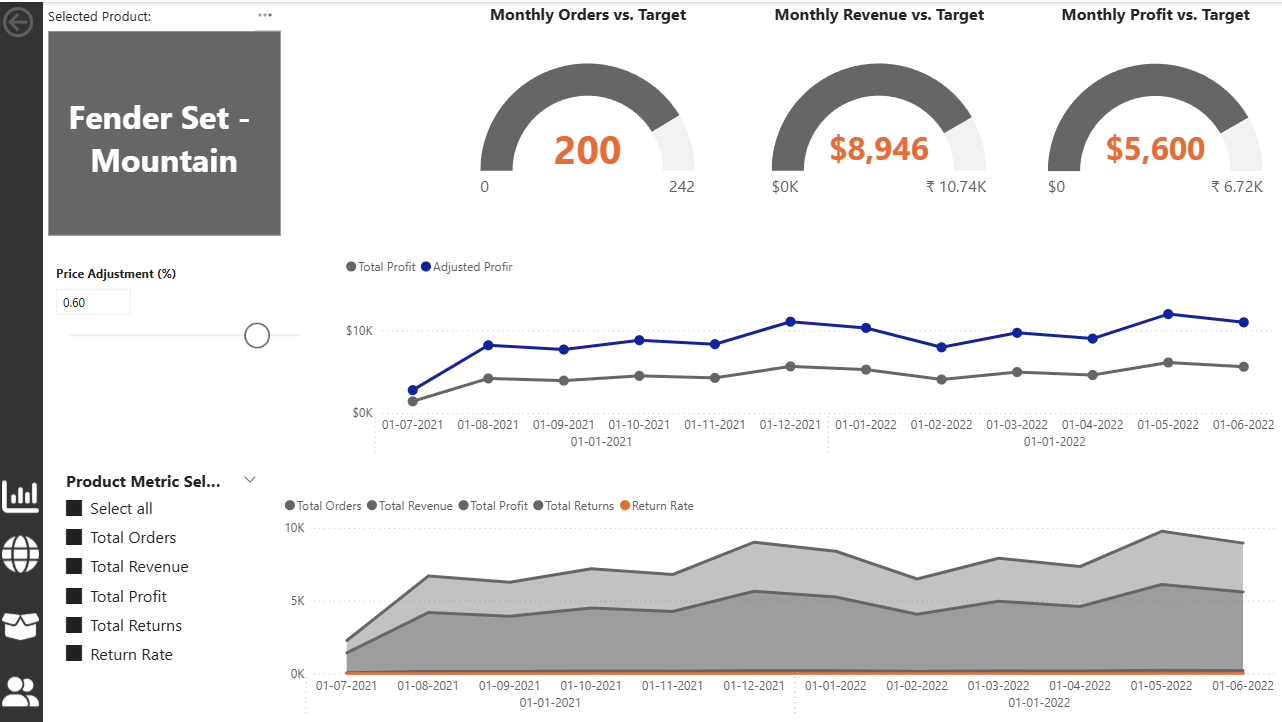

The page's visual inventory and layout, read from the dashboard file:
{"tool":"powerbi","page":{"name":"Product Detail","canvas":[1280,720],"ordinal":2},"visuals":[{"type":"shape","box":[0,0,45,720.3],"z":0},{"type":"gauge","title":"Monthly Orders vs. Target","fields":{"MaxValue":["Measure Table.Order Target"],"Y":["Measure Table.Total Orders"]},"box":[474.7,0,223.6,239.5],"z":1000},{"type":"actionButton","box":[0,460.3,44.8,64.7],"z":1000,"group":"g1"},{"type":"gauge","title":"Monthly Revenue vs. Target","fields":{"MaxValue":["Measure Table.Revenue Target"],"Y":["Measure Table.Total Revenue"]},"box":[765.4,0,223.6,239.5],"z":2000},{"type":"gauge","title":"Monthly Profit vs. Target","fields":{"MaxValue":["Measure Table.Profit Target"],"Y":["Measure Table.Total Profit"]},"box":[1040,0,223.9,240.1],"z":3000},{"type":"lineChart","title":"Profits Trending","fields":{"Category":["Calendar Lookup.Date heirarachy.Start of Year","Calendar Lookup.Date heirarachy.Start of Month","Calendar Lookup.Date heirarachy.Start of Week","Calendar Lookup.Date heirarachy.Date"],"Y":["Measure Table.Total Profit","Measure Table.Adjusted Profir"]},"box":[340.8,243.8,939.2,216.4],"z":4000},{"type":"lineChart","title":" Returns Trending","fields":{"Category":["Calendar Lookup.Date heirarachy.Start of Year","Calendar Lookup.Date heirarachy.Start of Month","Calendar Lookup.Date heirarachy.Start of Week","Calendar Lookup.Date heirarachy.Date"],"Y":["Measure Table.Total Orders","Measure Table.Total Revenue","Measure Table.Total Profit","Measure Table.Total Returns","Measure Table.Return Rate"]},"box":[279.9,481.9,999.8,238.1],"z":5000},{"type":"actionButton","box":[0,589.6,44.8,64.7],"z":5000,"group":"g1"},{"type":"actionButton","box":[0,0,100,40],"z":6000},{"type":"actionButton","box":[0,516.9,44.8,64.7],"z":6000,"group":"g1"},{"type":"card","fields":{"Values":["Min(Product Lookup.ProductName)"]},"box":[49.8,28.6,231.4,204],"z":7000},{"type":"actionButton","box":[0,654.9,44.8,64.7],"z":7000,"group":"g1"},{"type":"textbox","box":[44.8,0,211.5,28.6],"z":8000},{"type":"group","id":"g1","title":"Navigation Buttons","box":[0,460.3,44.8,260],"z":9000},{"type":"slicer","fields":{"Values":["Price Adjustment (%).Price Adjustment (%)"]},"box":[44.8,257.5,279.9,103.2],"z":9001},{"type":"slicer","fields":{"Values":["Product Metric Selection.Product Metric Selection"]},"box":[54.8,460.2,215,248.2],"z":9002}]}

Visuals, with their boxes on the page's 1280x720 design canvas (x1, y1, x2, y2). These are canvas units, not pixel positions in the 1282x722 screenshot, which may show the page scaled, cropped or inside an application window:
shape: box=[0, 0, 45, 720]
"Monthly Orders vs. Target" gauge: box=[475, 0, 698, 240]
actionButton: box=[0, 460, 45, 525]
"Monthly Revenue vs. Target" gauge: box=[765, 0, 989, 240]
"Monthly Profit vs. Target" gauge: box=[1040, 0, 1264, 240]
"Profits Trending" lineChart: box=[341, 244, 1280, 460]
" Returns Trending" lineChart: box=[280, 482, 1280, 720]
actionButton: box=[0, 590, 45, 654]
actionButton: box=[0, 0, 100, 40]
actionButton: box=[0, 517, 45, 582]
card - Min(Product Lookup.ProductName): box=[50, 29, 281, 233]
actionButton: box=[0, 655, 45, 720]
textbox: box=[45, 0, 256, 29]
"Navigation Buttons" group: box=[0, 460, 45, 720]
slicer - Price Adjustment (%).Price Adjustment (%): box=[45, 258, 325, 361]
slicer - Product Metric Selection.Product Metric Selection: box=[55, 460, 270, 708]
